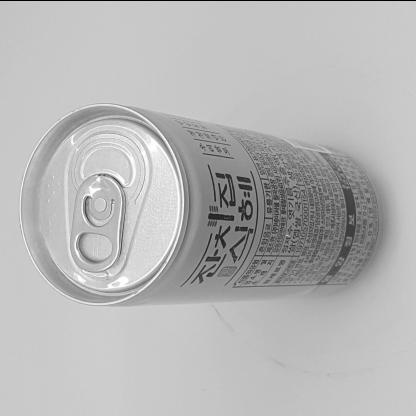alumunium_can: (17, 97, 395, 319)
